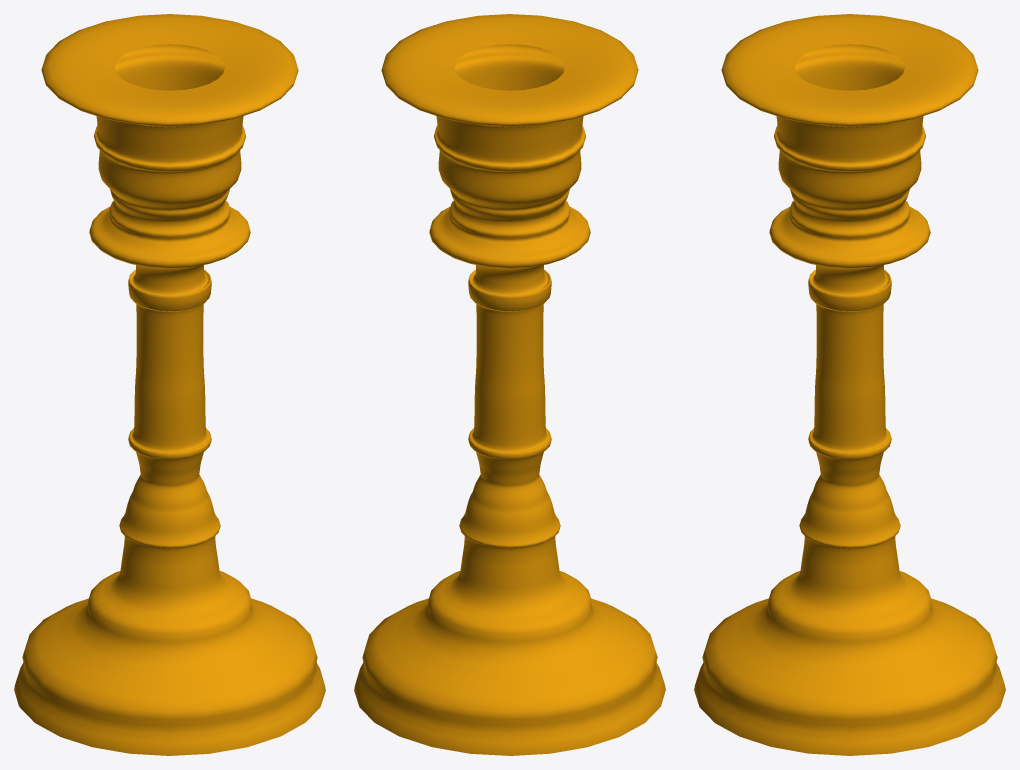
Rendered from CandleStand.fbx.
3 renders of one model, left to right at view 1: azimuth 30°, elevation 25°; view 2: azimuth 150°, elevation 25°; view 3: azimuth 270°, elevation 25°, orthographic.
Visible parts, largest first — view 1: CandleStand; view 2: CandleStand; view 3: CandleStand.
Part boxes in pixels (x1,y1,x2,y2): CandleStand: (14,14,325,755); CandleStand: (354,14,665,755); CandleStand: (694,14,1005,755).
Bounding box in the file's own units: 39.52 × 87.59 × 39.52.
